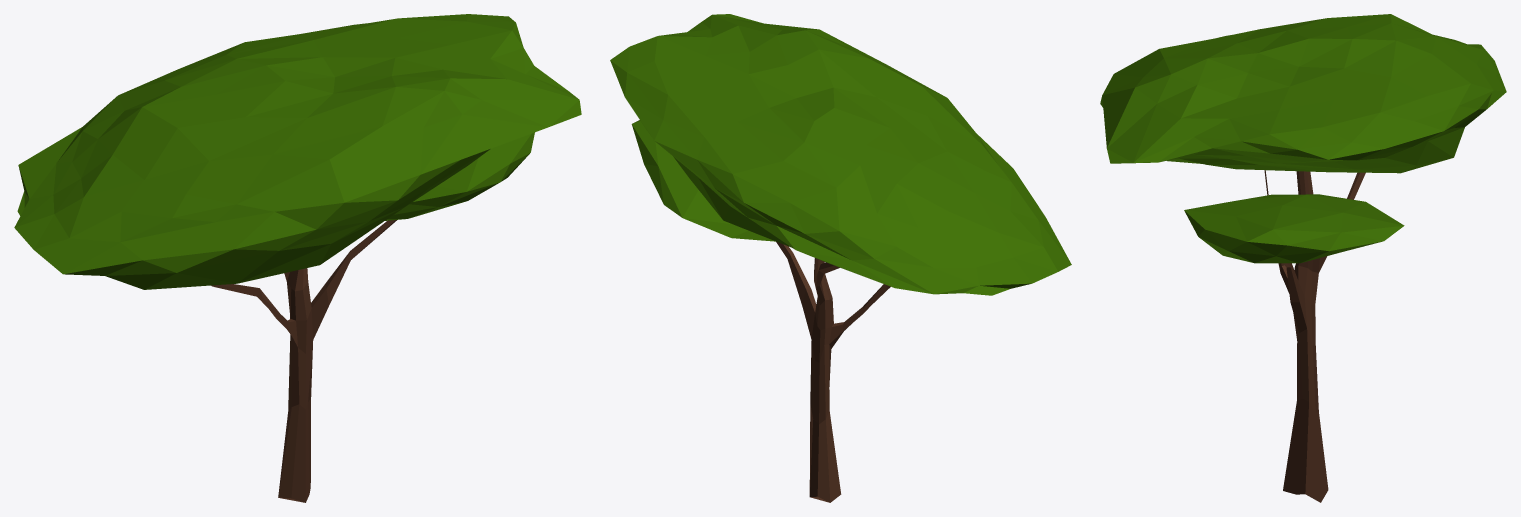
The model's file is Desert_Tree_Tall.fbx.
3 renders of one model, left to right at view 1: azimuth 30°, elevation 25°; view 2: azimuth 150°, elevation 25°; view 3: azimuth 270°, elevation 25°, orthographic. The views are drawn at different scales.
Visible parts, largest first — view 1: Desert Tree Tall; view 2: Desert Tree Tall; view 3: Desert Tree Tall.
Part boxes in pixels (x1,y1,x2,y2): Desert Tree Tall: [14, 14, 581, 502]; Desert Tree Tall: [610, 14, 1071, 502]; Desert Tree Tall: [1100, 14, 1506, 502].
Size of the model in its own units: 2106 by 1825 by 1436.
